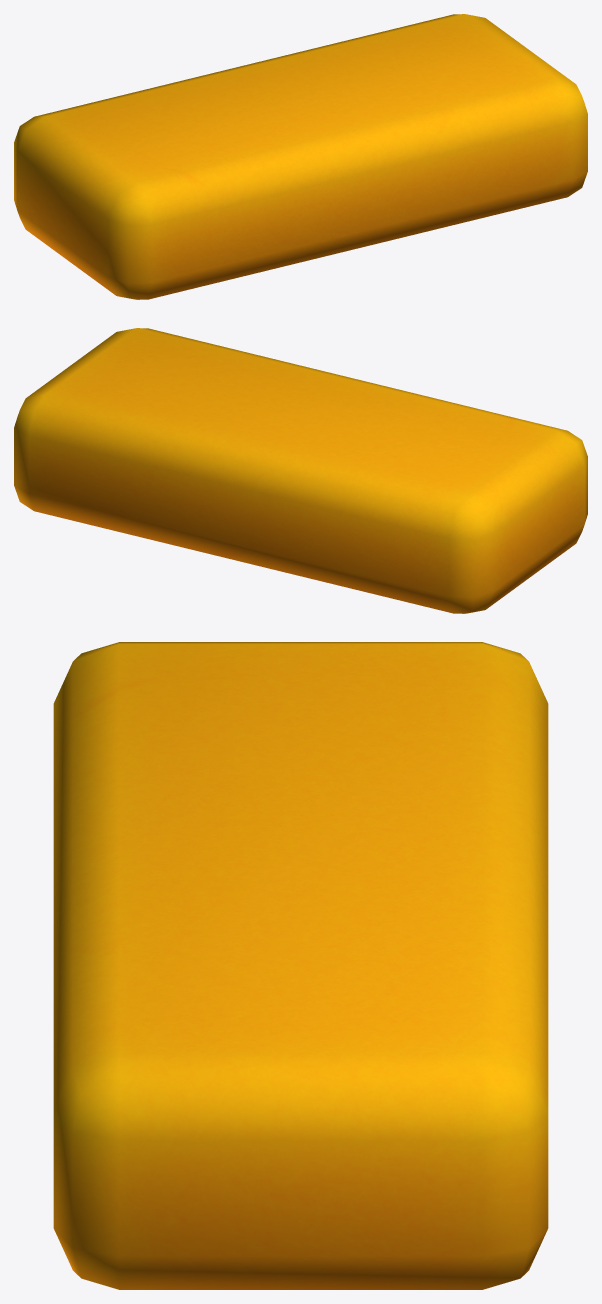
Rendered from GoldIngot.FBX.
3 views of the same model, one above another, from view 1: azimuth 30°, elevation 25°; view 2: azimuth 150°, elevation 25°; view 3: azimuth 270°, elevation 25° (orthographic). The views are drawn at different scales.
Visible parts, largest first — view 1: GoldIngot; view 2: GoldIngot; view 3: GoldIngot.
Part boxes in pixels (box(x1,y1,x2,y2)): GoldIngot: box(14, 14, 587, 299); GoldIngot: box(14, 328, 587, 613); GoldIngot: box(53, 642, 548, 1289).
Size of the model in its own units: 162 by 38.03 by 73.01.
Materials: 1 (1 with a texture image).
